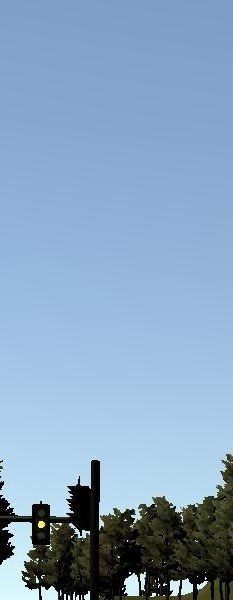Yellow: (33, 504, 51, 545)
